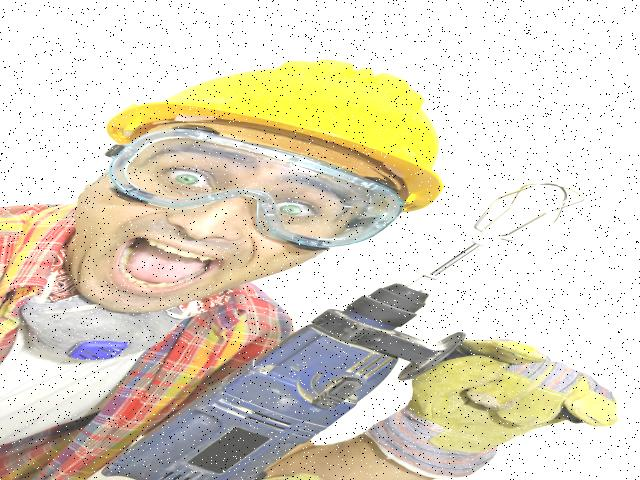Helmet: (93, 55, 458, 218)
